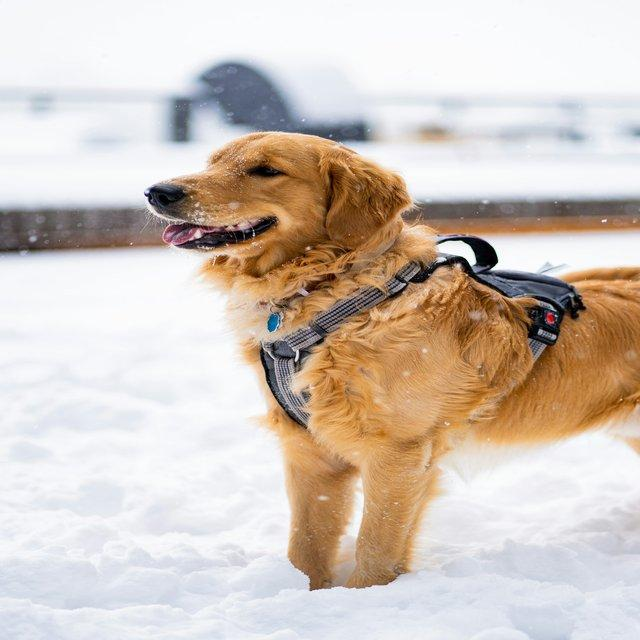retriever: (142, 128, 639, 591)
